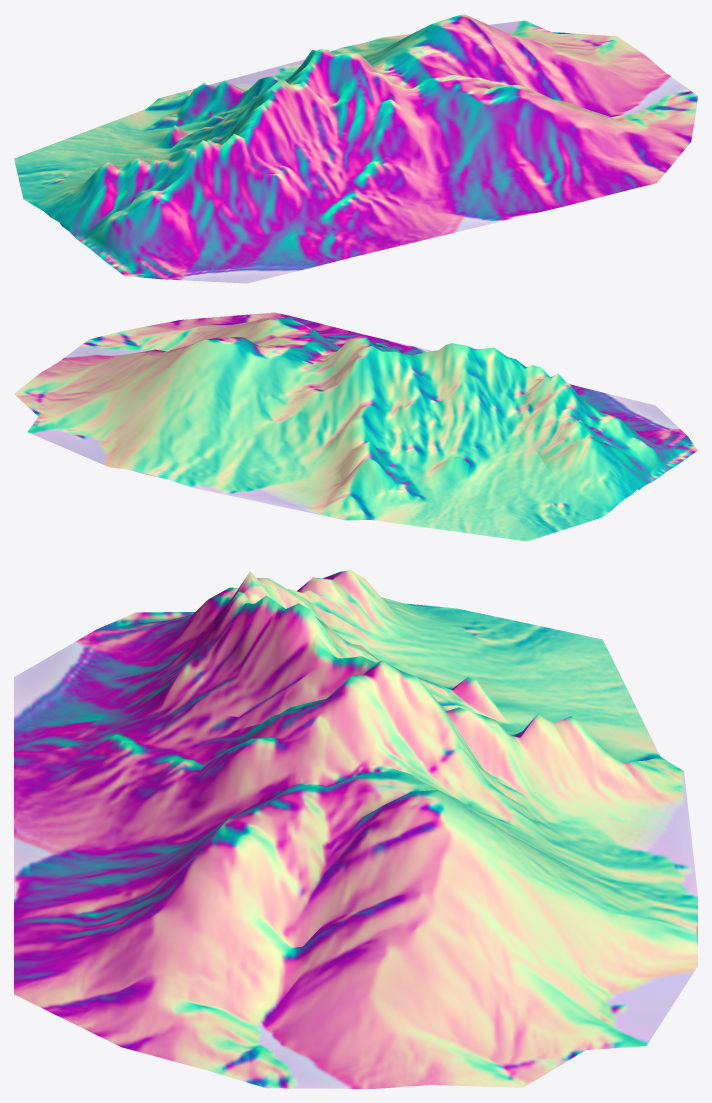
File: Mountain1.fbx
3 renders of one model, top to bottom at view 1: azimuth 30°, elevation 25°; view 2: azimuth 150°, elevation 25°; view 3: azimuth 270°, elevation 25°, orthographic. The views are drawn at different scales.
Parts seen in each view (by area): view 1: Mountain1; view 2: Mountain1; view 3: Mountain1.
Boxes of the visible parts, x1,y1,x2,y2 form: Mountain1: (14, 14, 697, 283); Mountain1: (14, 312, 697, 541); Mountain1: (14, 570, 697, 1088).
Size of the model in its own units: 25124 by 4092 by 15228.
